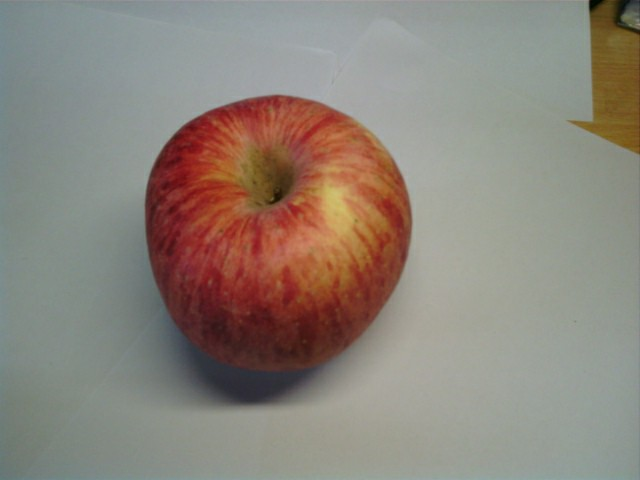normal_apple: (144, 95, 415, 375)
